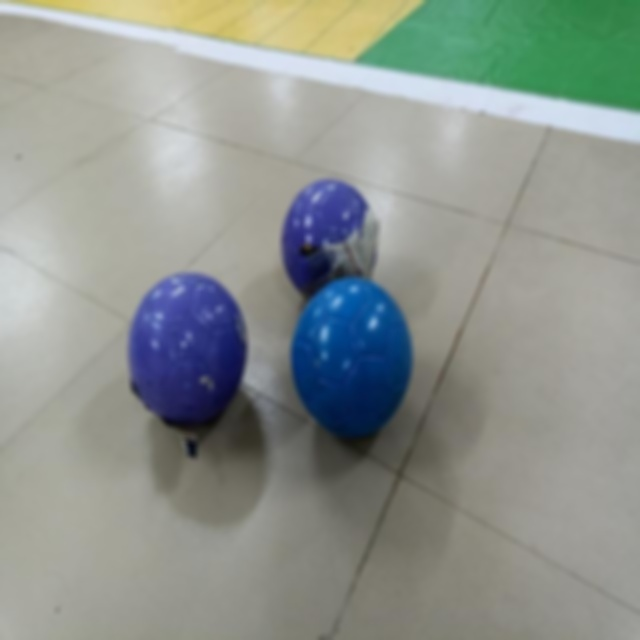blue_ball: (284, 280, 418, 432)
purple_ball: (122, 262, 251, 435), (274, 172, 390, 297)
